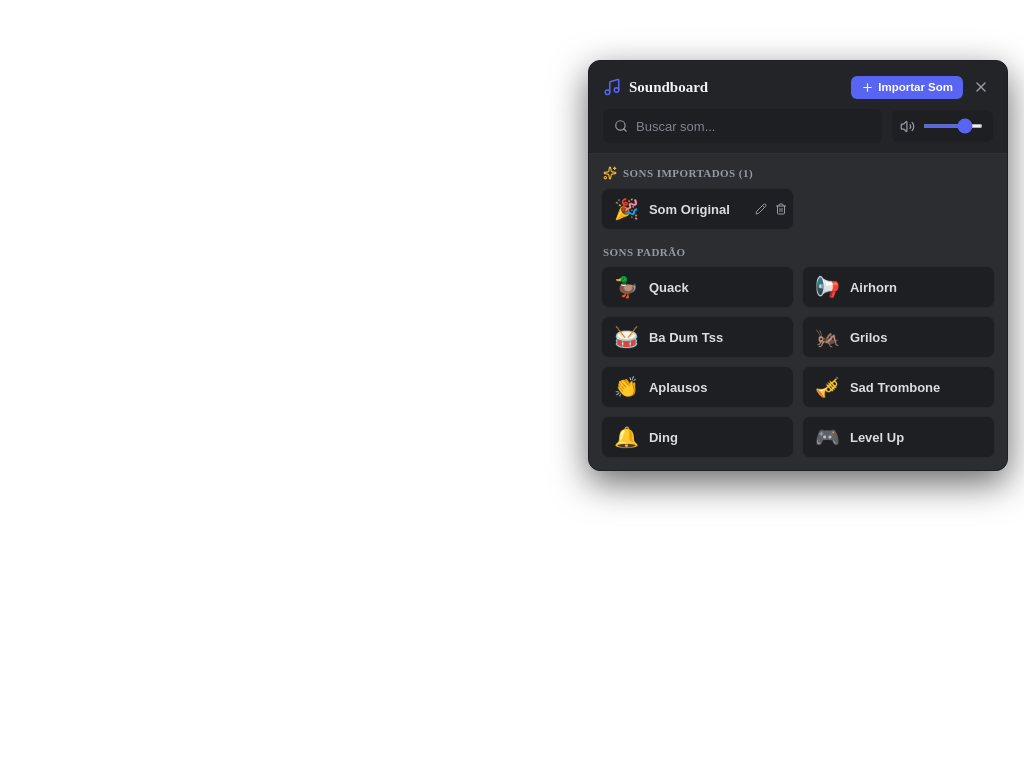
Test: SoundboardPopover - Importar e Excluir Sons › permite ao administrador abrir o modal de edição e alterar o nome e emoji do som
Later steps or results of the test are not shown.
Click the button with test id "soundboard-edit-btn-55".
click(761, 209)  # box x1=752 y1=200 x2=770 y2=218
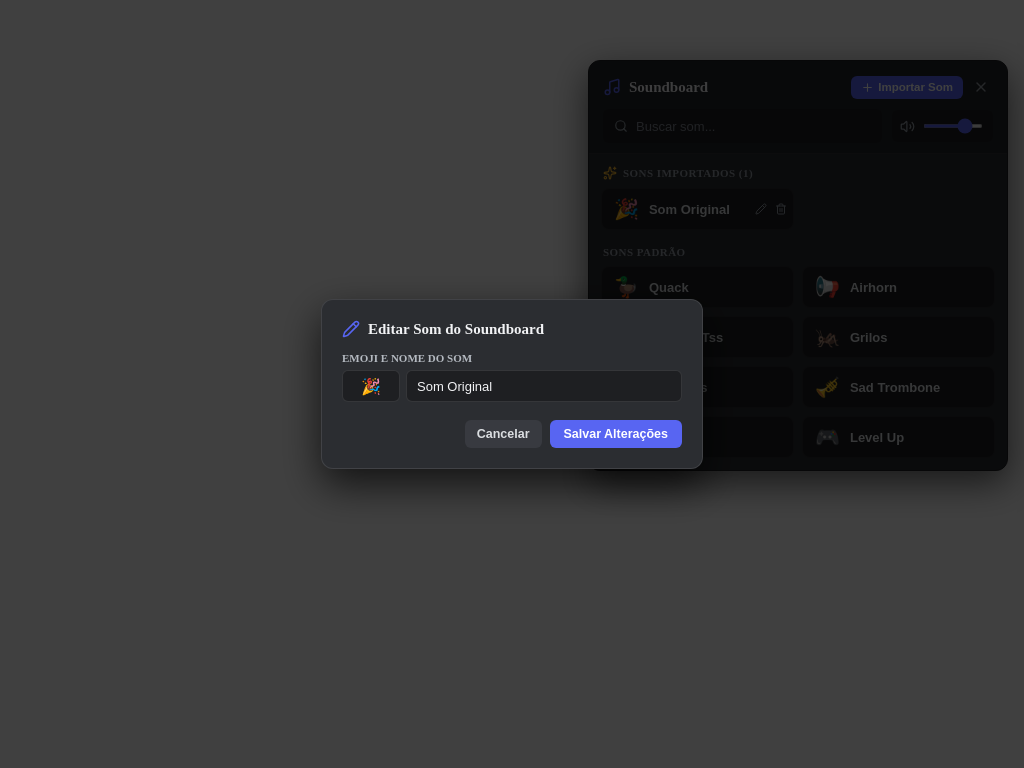
Expected: the element with test id "soundboard-popover-edit-backdrop" is shown
Expected: the element with test id "soundboard-popover-edit-modal" is shown, x1=321 y1=299 x2=703 y2=469
